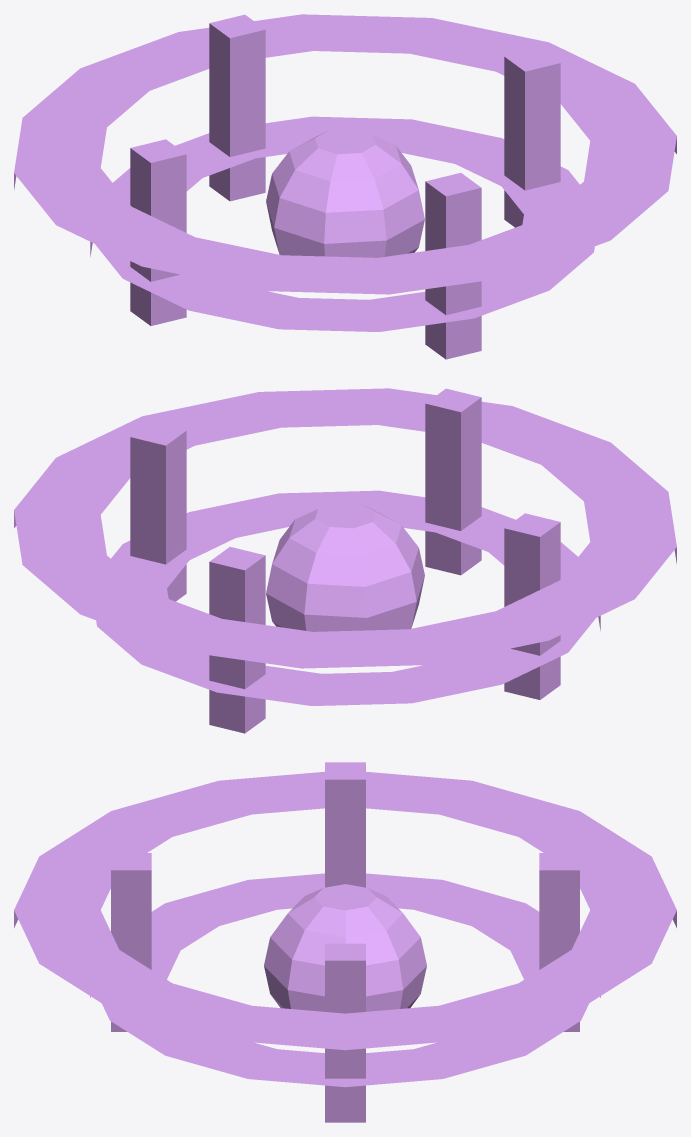
Rendered from spell_dispel_purge.glb.
3 renders of one model, top to bottom at view 1: azimuth 30°, elevation 25°; view 2: azimuth 150°, elevation 25°; view 3: azimuth 270°, elevation 25°, orthographic.
Parts seen in each view (by area): view 1: SpellDispelPurge_Node; view 2: SpellDispelPurge_Node; view 3: SpellDispelPurge_Node.
Part boxes in pixels (x1,y1,x2,y2): SpellDispelPurge_Node: [14, 14, 676, 359]; SpellDispelPurge_Node: [14, 388, 676, 733]; SpellDispelPurge_Node: [14, 762, 676, 1122].
Size of the model in its own units: 1.3 by 0.385 by 1.3.
